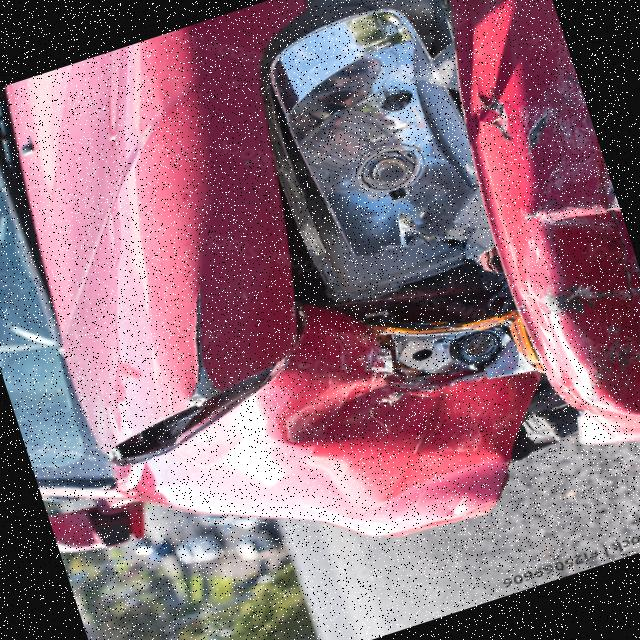Dent: (443, 70, 640, 452), (228, 326, 522, 566)
Head Light: (216, 0, 552, 392)
